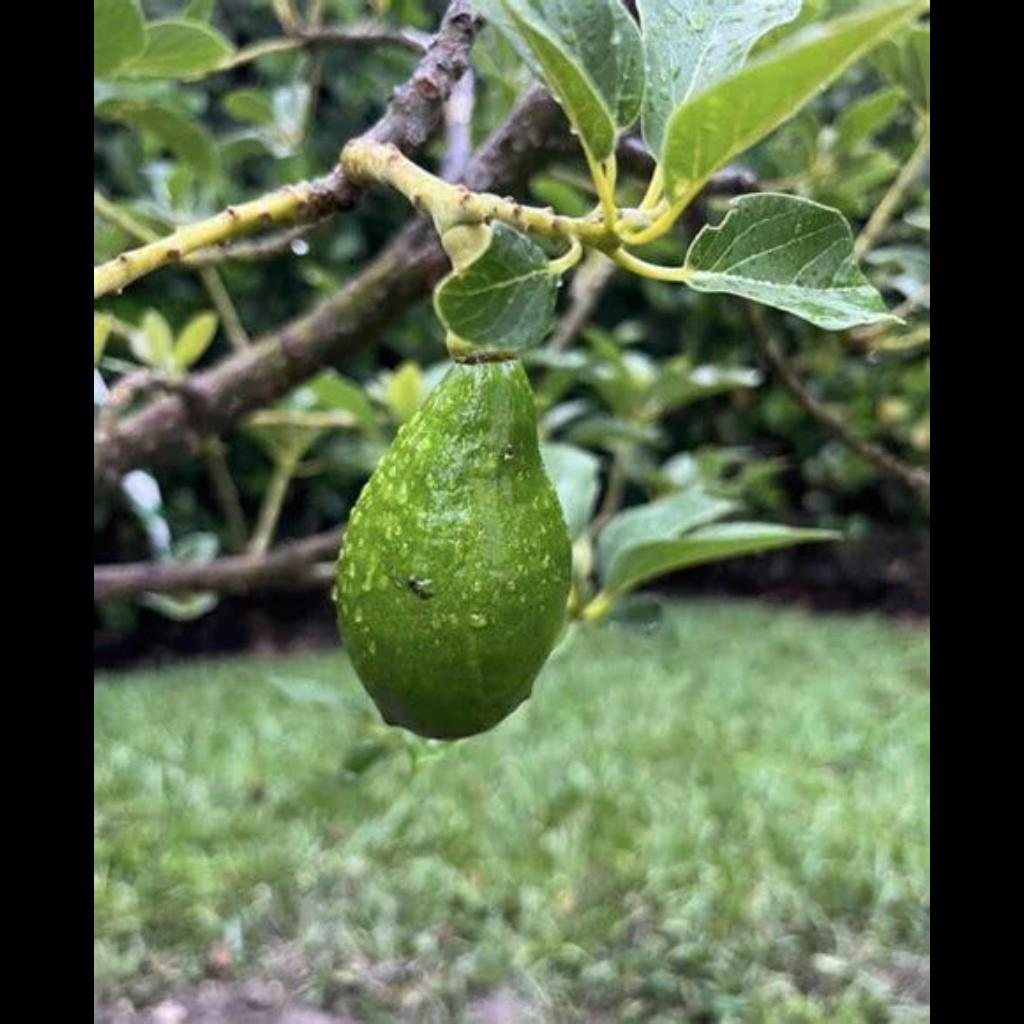Healthy: (319, 344, 587, 754)
